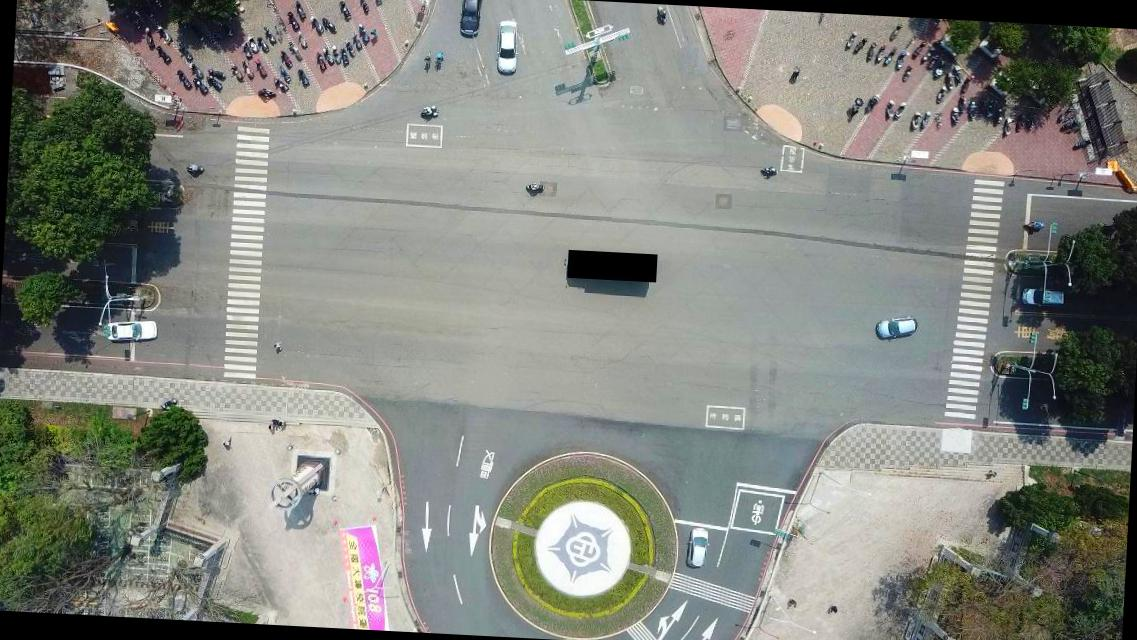vehicle: (104, 317, 158, 343), (495, 20, 518, 75), (874, 315, 916, 341), (685, 526, 709, 570), (458, 0, 482, 37), (1020, 286, 1064, 306)
